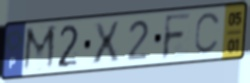2: (126, 18, 151, 63), (57, 23, 80, 70)
C: (193, 10, 223, 57)
F: (160, 11, 193, 63)
M: (20, 23, 58, 75)
X: (91, 19, 121, 67)
